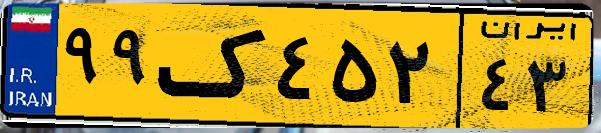2: (385, 28, 445, 110)
3: (525, 38, 570, 115)
4: (270, 28, 330, 110), (475, 38, 525, 113)
5: (330, 28, 385, 110)
9: (57, 26, 110, 100), (110, 28, 158, 98)
ک: (158, 12, 270, 120)
